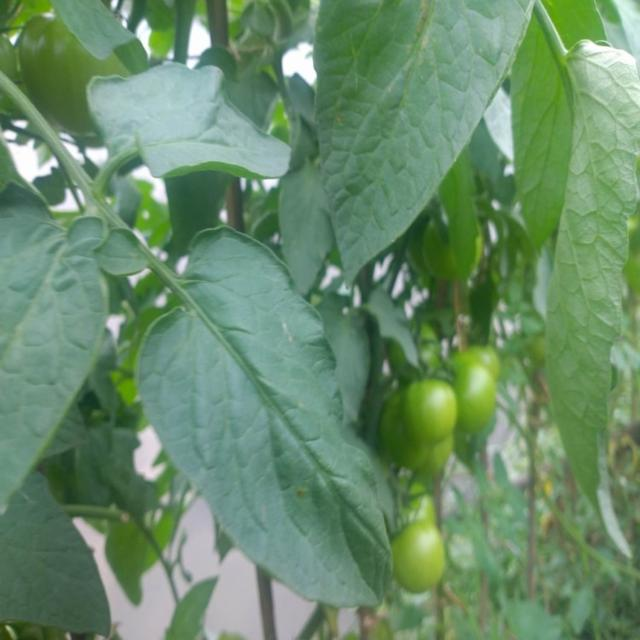tomato: (28, 14, 135, 126), (382, 395, 455, 472), (392, 519, 452, 593), (446, 359, 496, 432), (405, 380, 459, 434), (425, 221, 475, 275), (391, 323, 444, 364), (401, 478, 434, 528), (472, 343, 503, 372)
